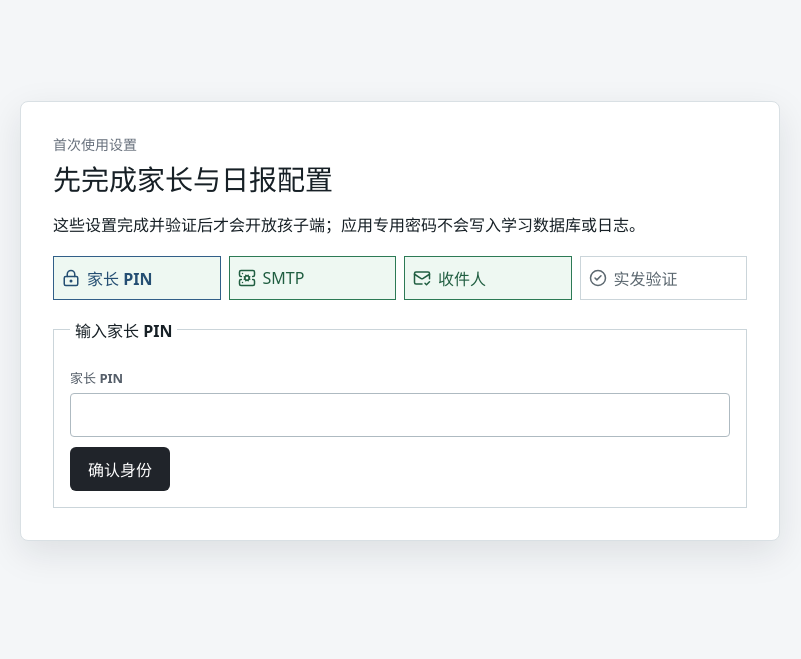
it: InstallationSetupWizard › does not finish setup when a replayed old test passed but current verification is missing
Type "2468" into the password field named "初始化家长PIN". click: (400, 415)
box: [70,393,730,437]
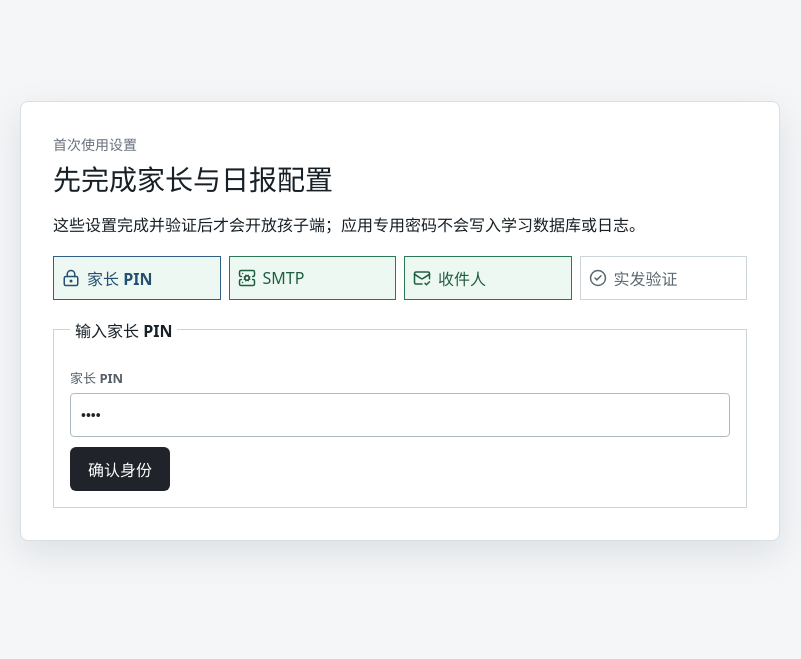
Click the button "确认身份". click: (120, 469)
box: [70,447,170,491]
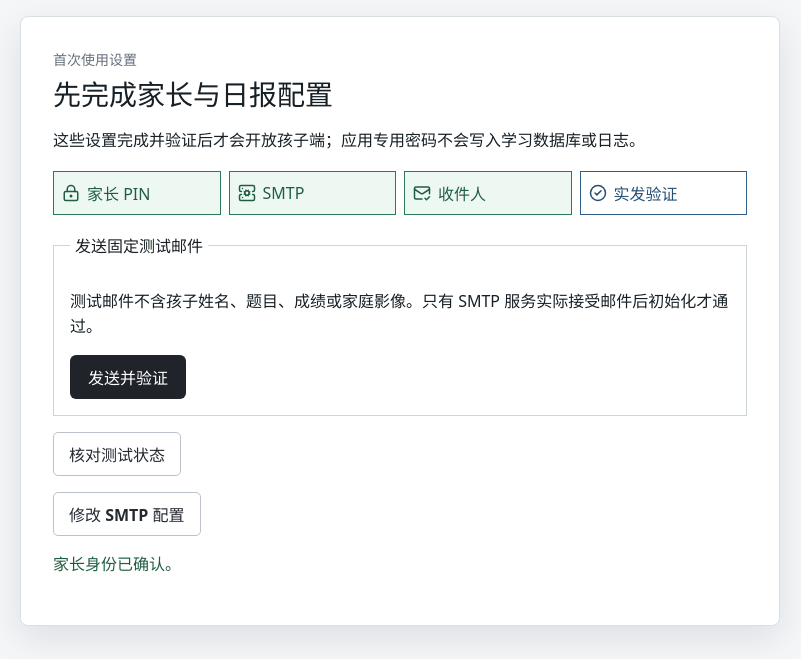
Click the button "发送并验证". click: (128, 377)
box: [70,355,186,399]
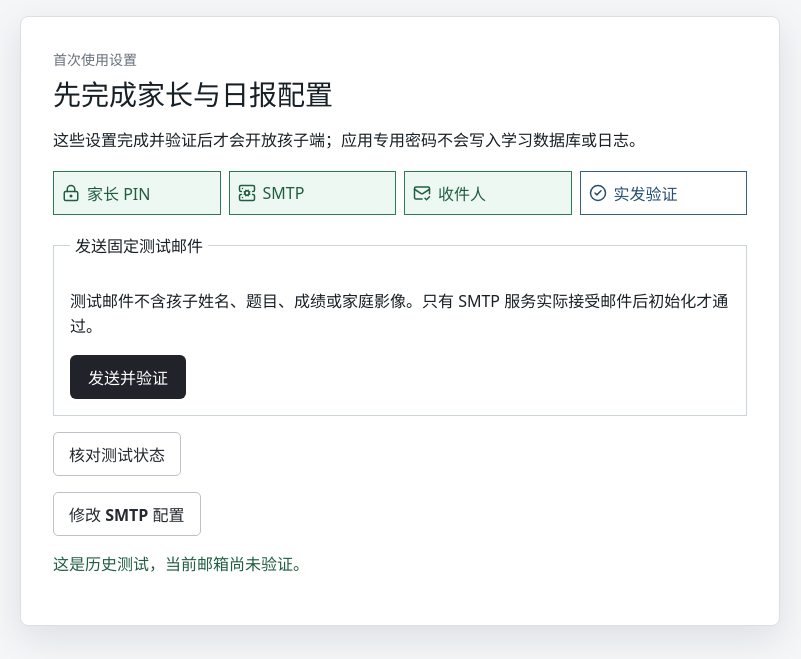
Check: the text "这是历史测试，当前邮箱尚未验证。" is shown, box [53,553,309,575]
